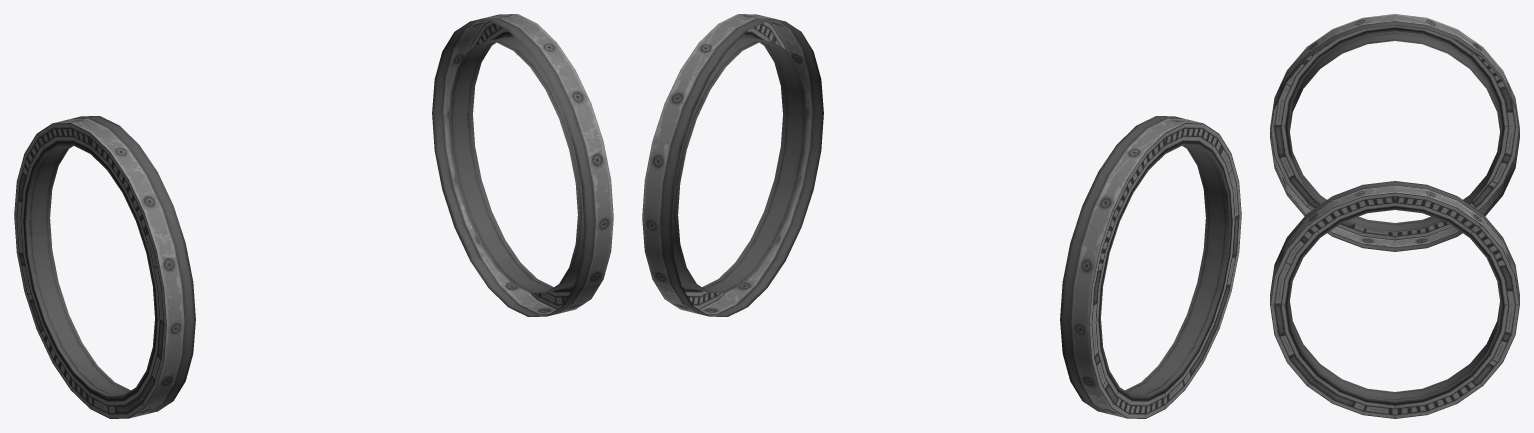
Rendered from Subway_Vents_Ring1.fbx.
3 renders of one model, left to right at view 1: azimuth 30°, elevation 25°; view 2: azimuth 150°, elevation 25°; view 3: azimuth 270°, elevation 25°, orthographic. The views are drawn at different scales.
Visible parts, largest first — view 1: pCylinder13; view 2: pCylinder13; view 3: pCylinder13.
Part boxes in pixels (x1=…): pCylinder13: x1=14, y1=14, x2=613, y2=418; pCylinder13: x1=642, y1=14, x2=1241, y2=418; pCylinder13: x1=1270, y1=14, x2=1519, y2=418.
Size of the model in its own units: 116 by 68.7 by 68.7.
